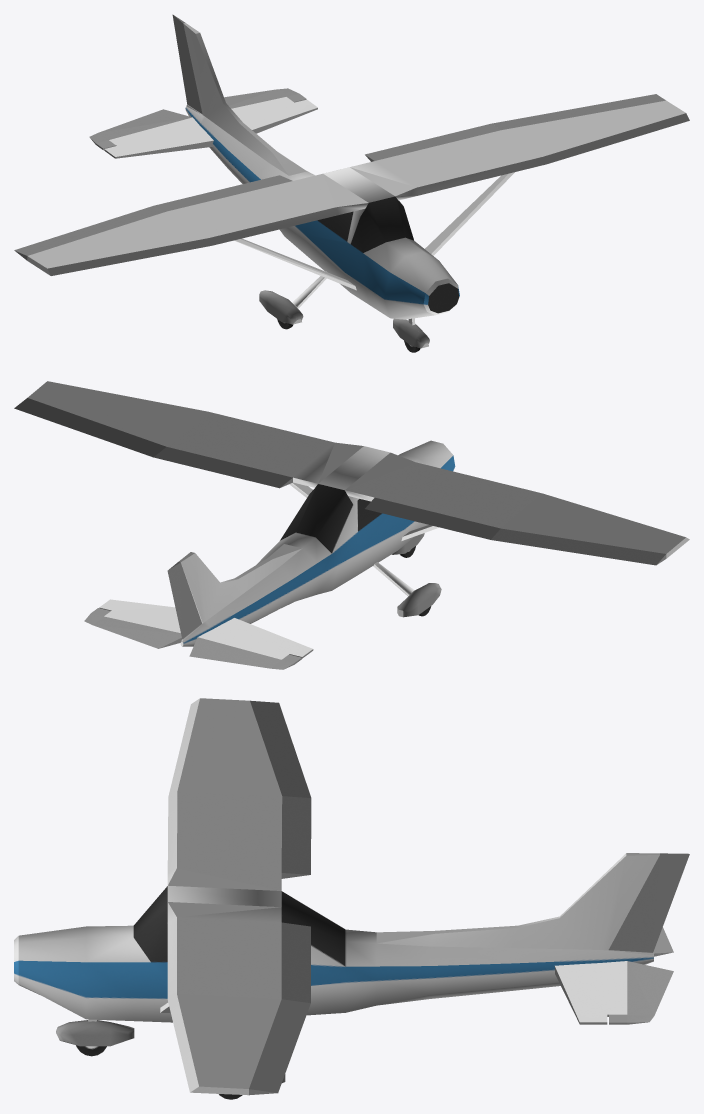
Rendered from planeNoProp.obj.
The picture shows the model from 3 angles, top to bottom: view 1: azimuth 30°, elevation 25°; view 2: azimuth 150°, elevation 25°; view 3: azimuth 270°, elevation 25°; orthographic projection. The views are drawn at different scales.
Parts seen in each view (by area): view 1: Body, Stabilizer, Elevator, RightAileron, LeftAileron, LeftFlap, RightFlap, Rudder; view 2: Body, Stabilizer, Elevator, RightAileron, LeftAileron, LeftFlap, RightFlap, Rudder; view 3: Body, Rudder, Stabilizer, LeftAileron, RightAileron, Elevator, RightFlap, LeftFlap.
Part boxes in pixels (x1,y1,x2,y2): Body: (27,23,689,348); Stabilizer: (104,97,317,158); Elevator: (89,88,306,150); RightAileron: (14,206,166,260); LeftAileron: (491,94,665,130); LeftFlap: (365,123,500,161); RightFlap: (153,175,292,211); Rudder: (172,14,202,114); Body: (27,381,689,646); Stabilizer: (99,599,313,659); Elevator: (84,608,301,669); RightAileron: (491,528,666,565); LeftAileron: (14,398,166,457); LeftFlap: (153,447,292,488); RightFlap: (365,497,500,539); Rudder: (167,562,201,638); Body: (14,698,659,1095); Rudder: (608,853,689,952); Stabilizer: (554,961,627,1024); LeftAileron: (249,999,310,1095); RightAileron: (250,700,311,797); Elevator: (609,927,673,1024); RightFlap: (281,796,311,878); LeftFlap: (281,922,310,1003).
Size of the model in its own units: 27.07 by 6.52 by 19.81.
1 material, 1 textured.
